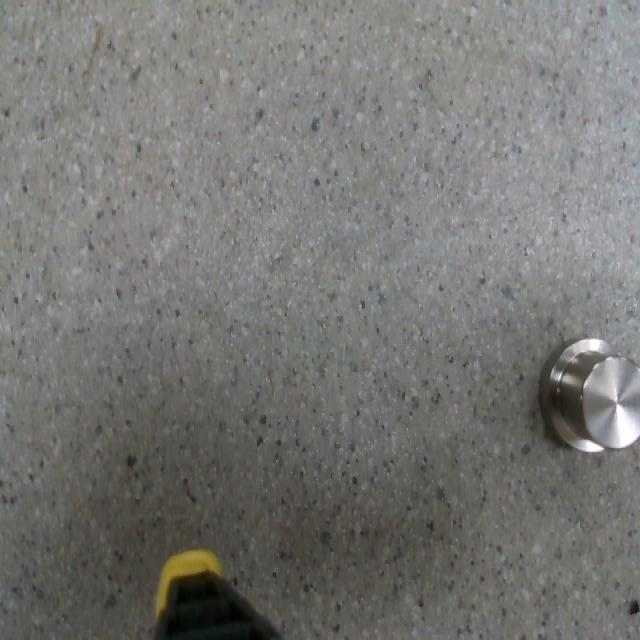sensor: (536, 337, 640, 454)
